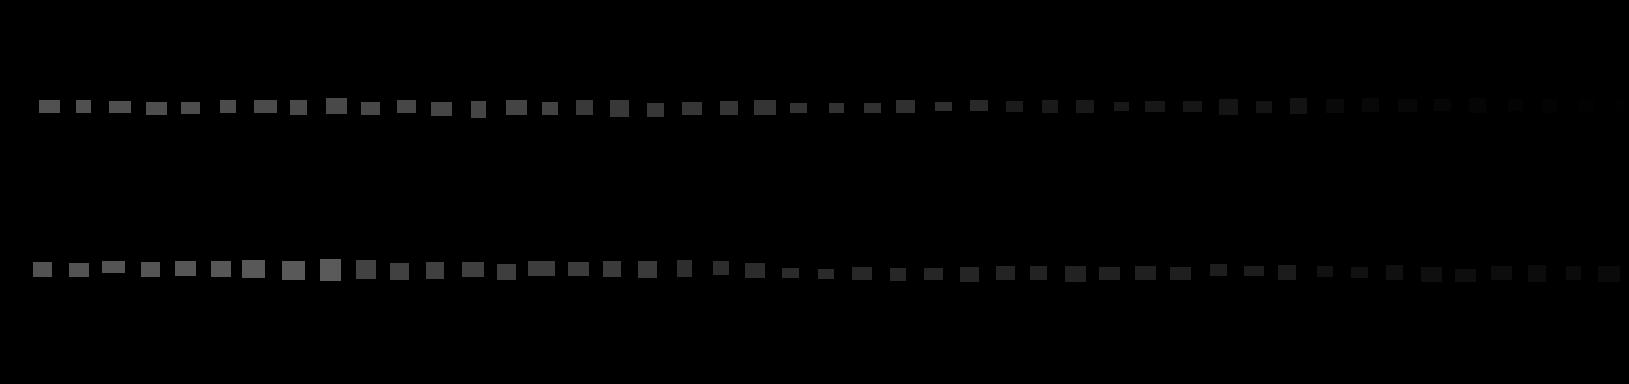light: (282, 260, 305, 280), (320, 259, 341, 281), (528, 260, 555, 276), (242, 260, 265, 278), (356, 260, 376, 279), (1598, 266, 1620, 282), (390, 263, 409, 280), (1065, 266, 1086, 282), (326, 98, 347, 114), (754, 100, 776, 115), (462, 262, 484, 277), (175, 260, 196, 276), (610, 100, 629, 117), (638, 260, 657, 278), (1219, 99, 1238, 115), (497, 264, 516, 280), (211, 260, 231, 277), (1421, 267, 1442, 282), (506, 100, 527, 115), (253, 100, 277, 113), (1134, 266, 1156, 280), (1528, 265, 1546, 282), (426, 262, 444, 279), (603, 260, 621, 277), (745, 263, 765, 278), (1491, 266, 1512, 280), (568, 262, 589, 276), (431, 102, 452, 116), (69, 263, 89, 277), (960, 267, 979, 282), (33, 262, 52, 277), (141, 262, 160, 277), (102, 260, 125, 273), (1456, 269, 1476, 282), (1170, 267, 1191, 280), (1099, 267, 1120, 280), (682, 102, 702, 115), (146, 102, 167, 115), (39, 100, 60, 113), (1290, 98, 1307, 114), (1278, 265, 1296, 280), (576, 100, 593, 115), (471, 101, 486, 118), (290, 100, 308, 115), (1326, 99, 1344, 113), (996, 266, 1015, 280), (109, 101, 131, 113), (852, 267, 872, 280), (896, 100, 915, 113), (360, 102, 380, 115), (1469, 98, 1486, 113), (1386, 265, 1403, 280), (1030, 266, 1047, 280), (720, 101, 738, 115), (1398, 99, 1417, 112), (397, 100, 416, 113), (924, 268, 943, 280), (181, 102, 201, 114), (1362, 98, 1379, 112), (713, 260, 729, 275), (677, 260, 692, 277), (647, 103, 664, 117), (1076, 100, 1094, 113), (1542, 99, 1557, 113), (1566, 266, 1581, 280), (1145, 101, 1165, 112), (1434, 99, 1451, 111), (1244, 266, 1264, 276), (1183, 101, 1202, 112), (1042, 100, 1058, 113), (890, 268, 906, 281), (542, 102, 558, 115), (220, 100, 236, 113), (76, 100, 91, 113), (1210, 264, 1227, 276), (1351, 267, 1368, 278), (1006, 101, 1023, 112), (970, 100, 988, 111), (1578, 99, 1594, 111), (1256, 101, 1272, 113), (790, 103, 807, 113), (1508, 99, 1523, 111), (1317, 266, 1333, 277), (818, 269, 834, 279), (782, 268, 799, 278), (864, 103, 881, 113), (1612, 99, 1627, 110), (935, 102, 952, 111), (829, 103, 844, 113), (1114, 102, 1129, 111)
